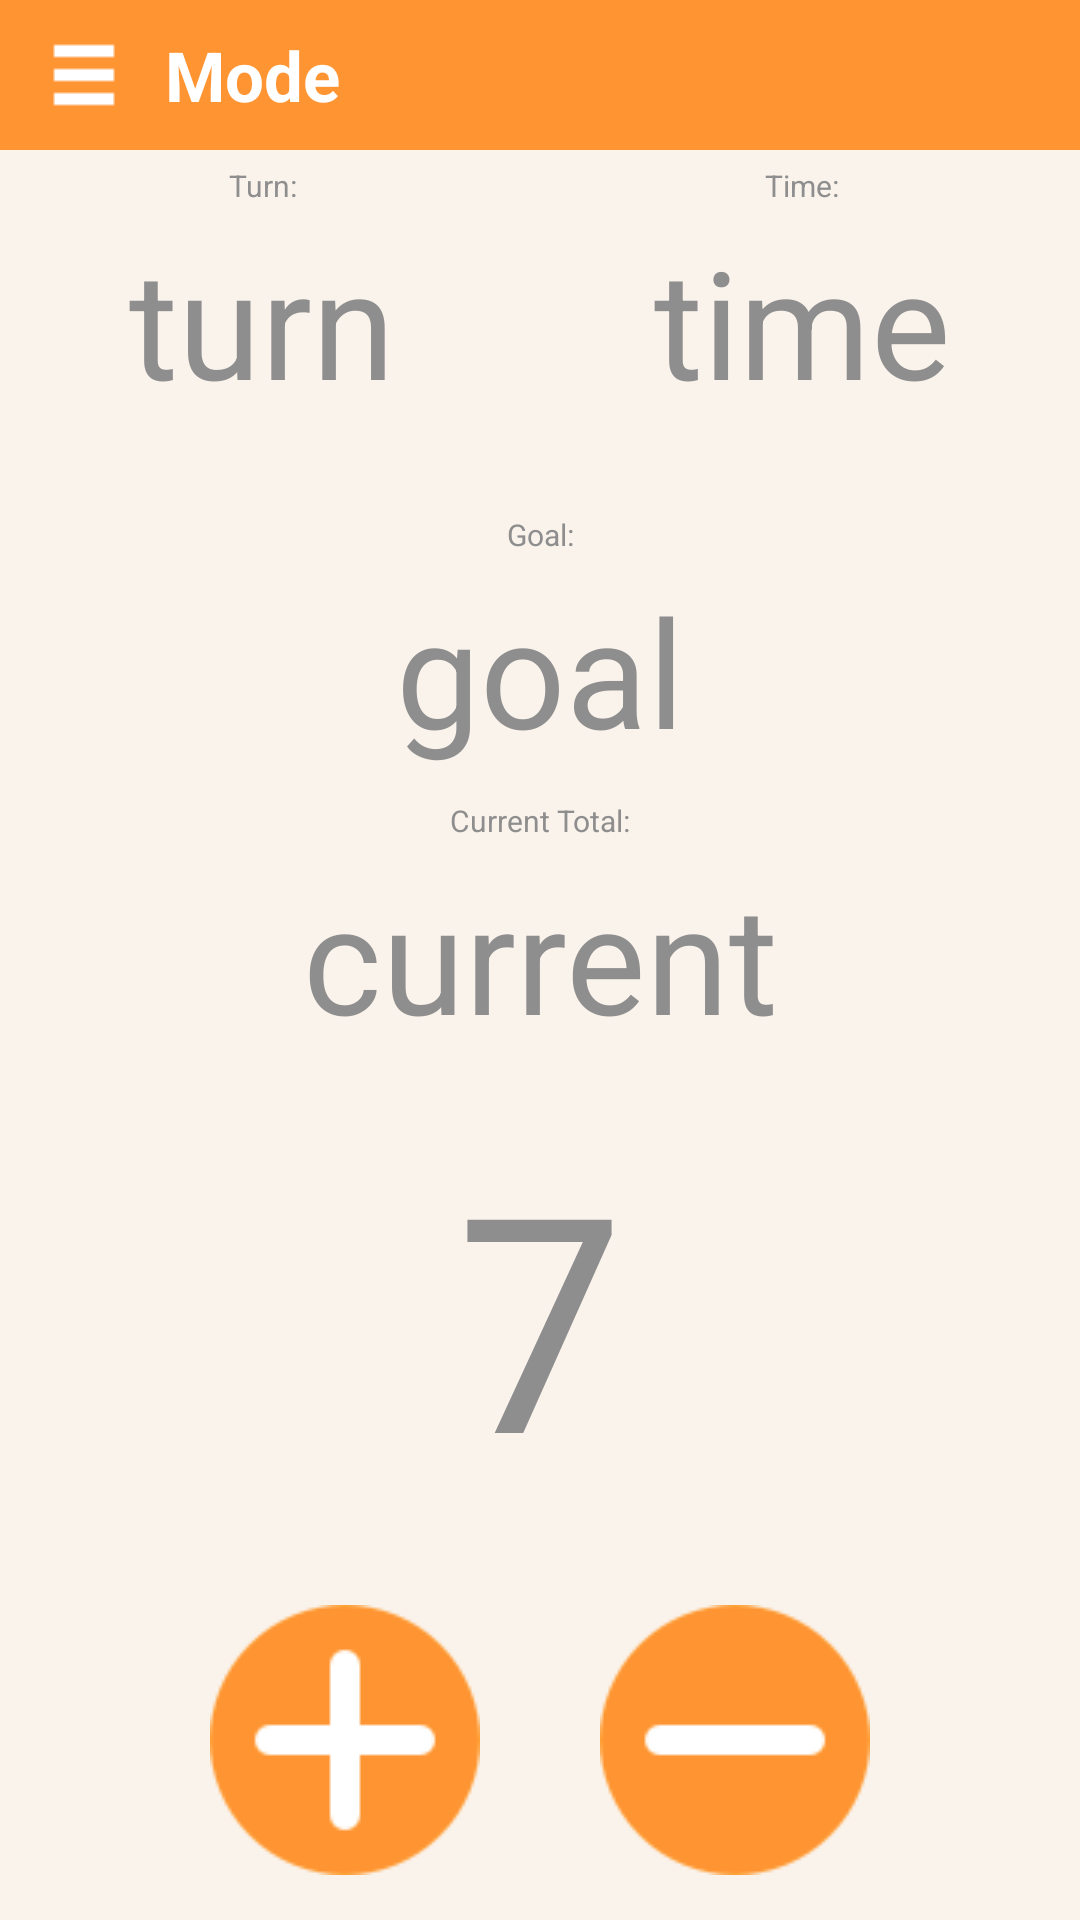

Screen size 1080w x 1920h. Icon name, then its center in pixels as [x,y]:
circle minus: [735,1740]
circle plus: [345,1740]
